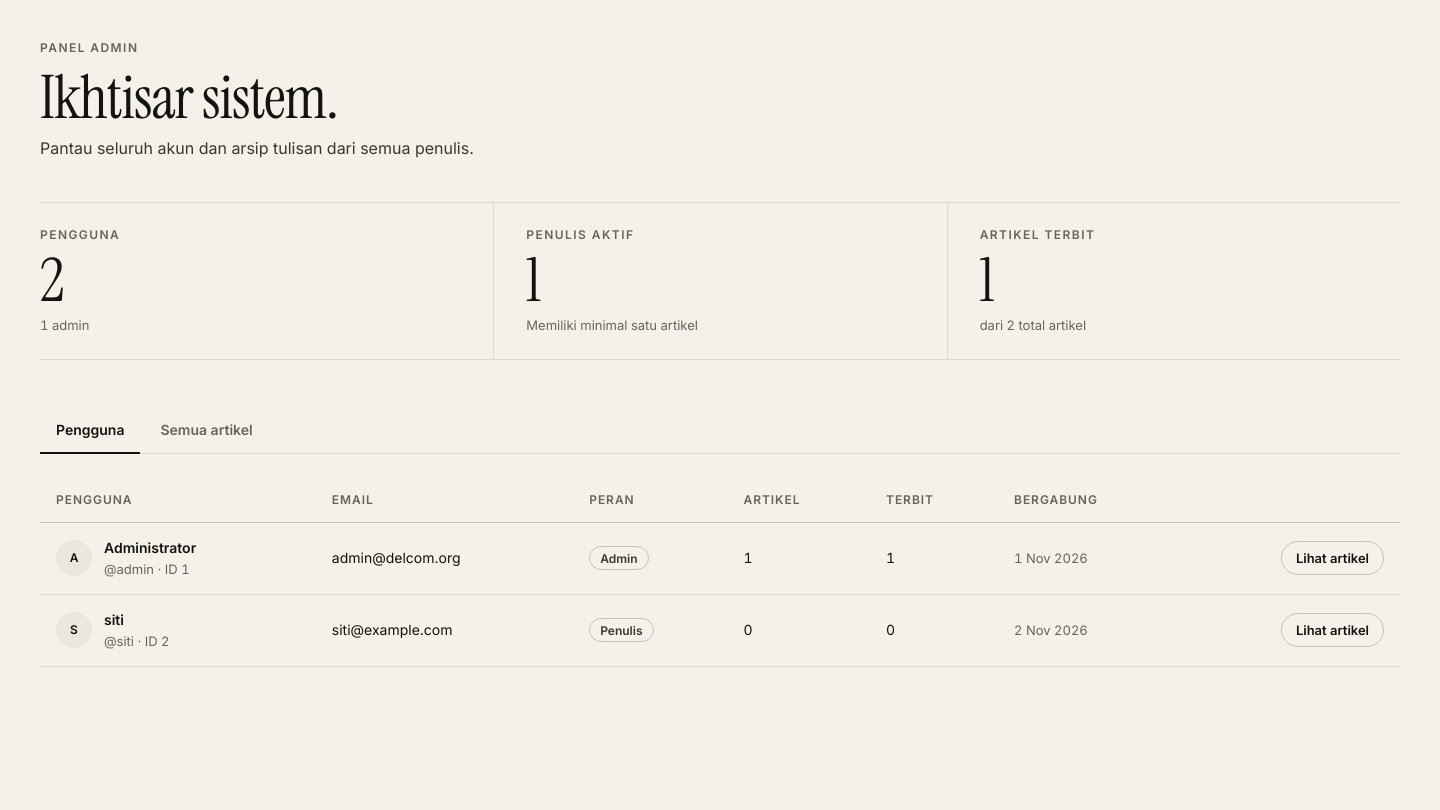
Test: AdminDashboard › reports a failed user-posts request and shows an empty table
Click the button with aria-label "Lihat artikel milik siti". click: x=1332, y=630
box: [1281, 613, 1384, 647]
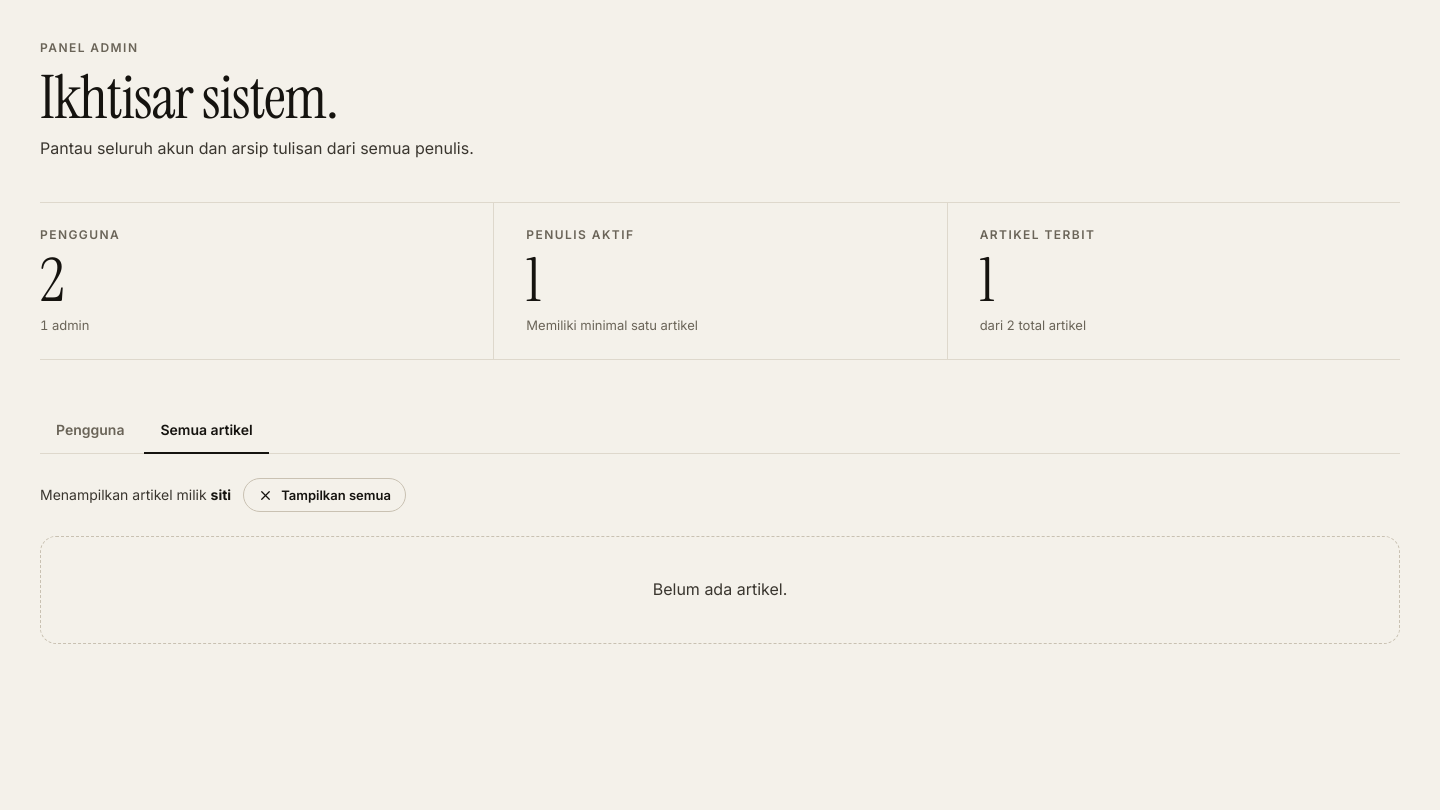
Expected: the text "siti" is shown, [211, 486, 231, 503]
Expected: the text "Belum ada artikel." is shown, [40, 536, 1400, 644]
